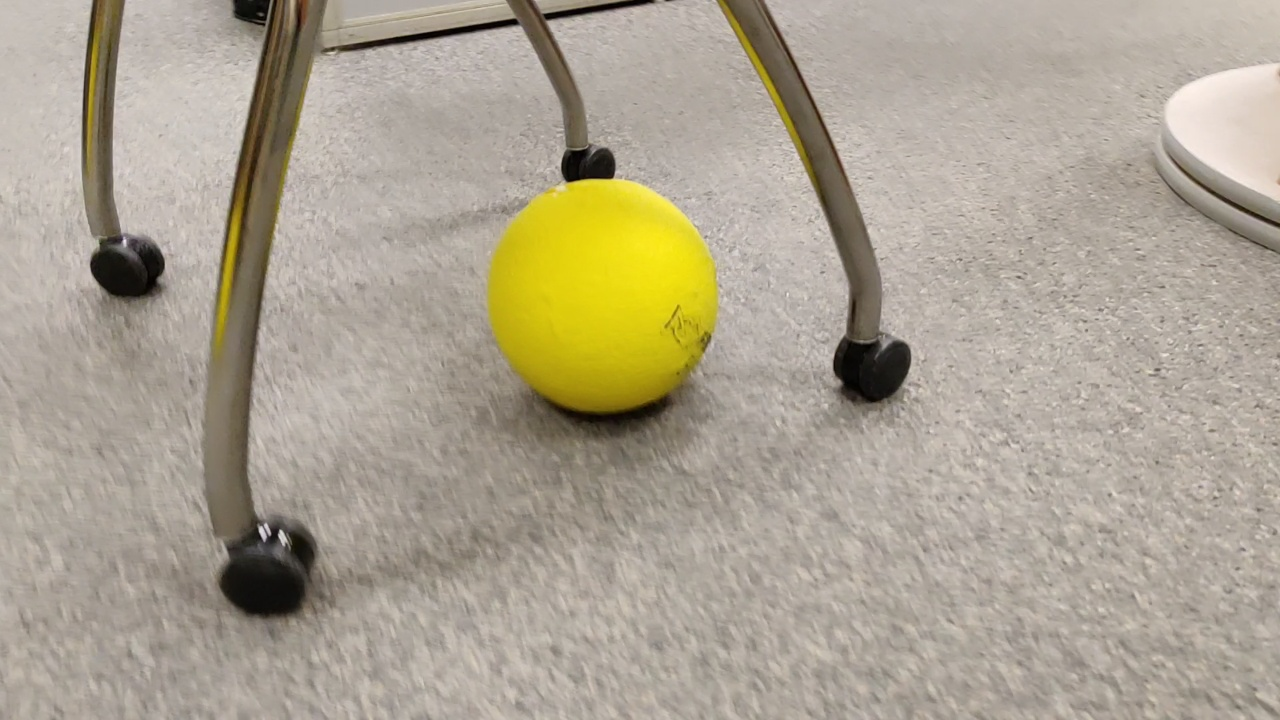Ball: (477, 174, 720, 421)
